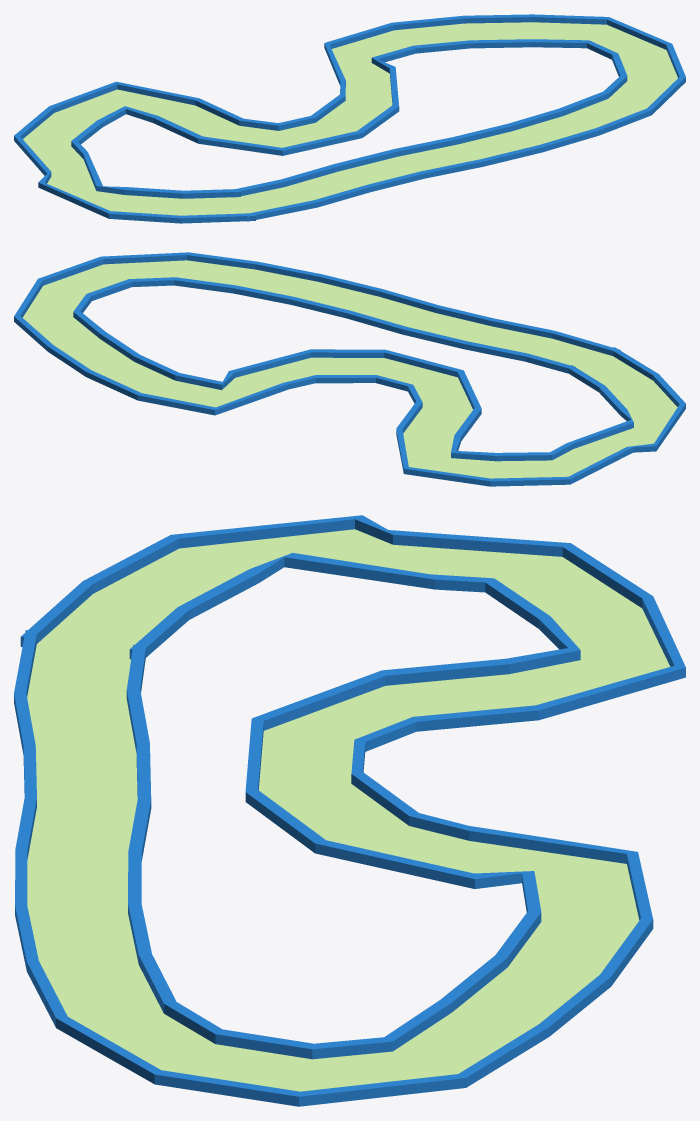
File: race.fbx
The picture shows the model from 3 angles, top to bottom: view 1: azimuth 30°, elevation 25°; view 2: azimuth 150°, elevation 25°; view 3: azimuth 270°, elevation 25°; orthographic projection. The views are drawn at different scales.
Visible parts, largest first — view 1: Plane; view 2: Plane; view 3: Plane.
Boxes of the visible parts, left/top/right/bottom form: Plane: left=14, top=14, right=685, bottom=223; Plane: left=14, top=252, right=685, bottom=486; Plane: left=14, top=515, right=685, bottom=1106.
Size of the model in its own units: 1417 by 11.35 by 692.
